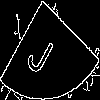J: (25, 24, 60, 78)
